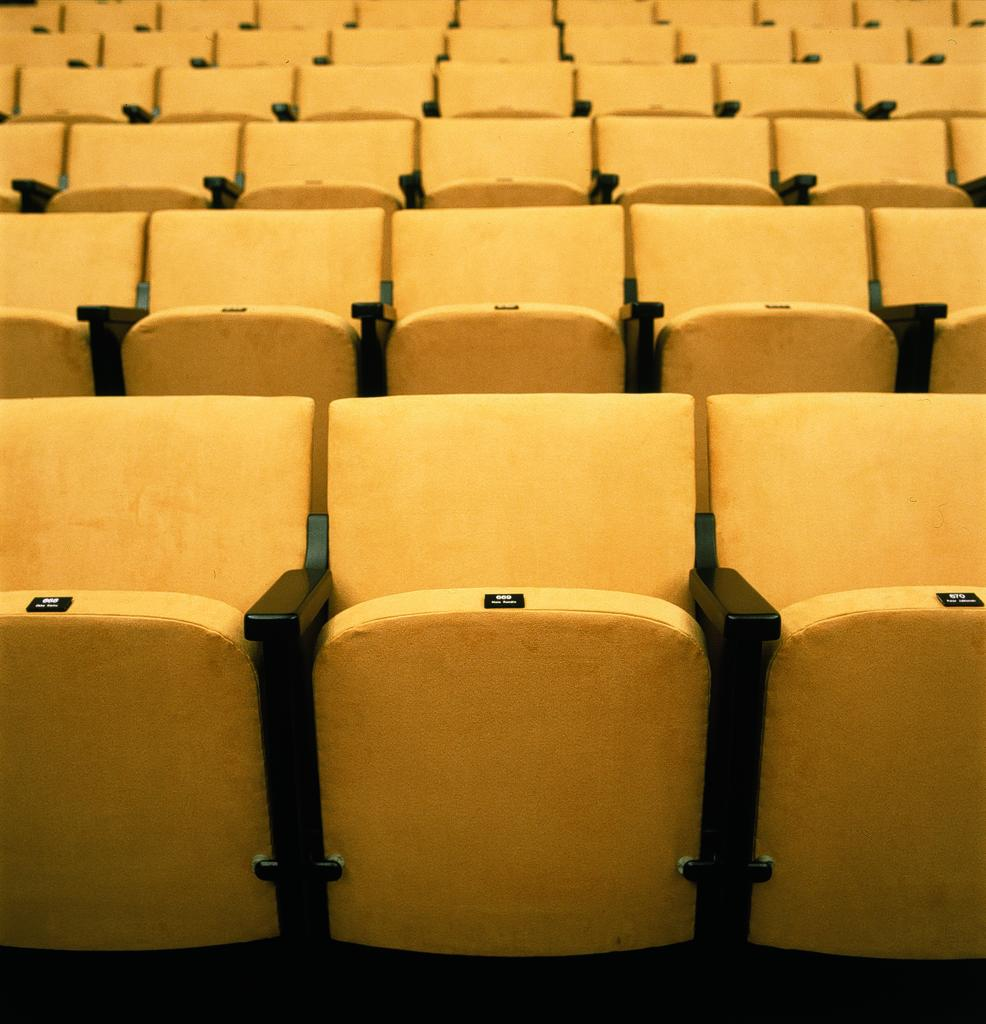Chair: (311, 391, 713, 960), (0, 393, 323, 954), (703, 390, 985, 962), (146, 206, 386, 318), (417, 116, 595, 207), (237, 118, 416, 207), (594, 114, 774, 201), (66, 121, 240, 206), (773, 117, 951, 198), (155, 64, 297, 122), (715, 60, 859, 117), (16, 65, 156, 122), (436, 60, 575, 117), (297, 63, 436, 119), (576, 61, 715, 116), (858, 61, 985, 118), (0, 121, 66, 212), (329, 26, 446, 65), (562, 24, 677, 63), (792, 26, 908, 64), (445, 25, 560, 61)
Luggage-and-bags: (3, 2, 982, 980)
